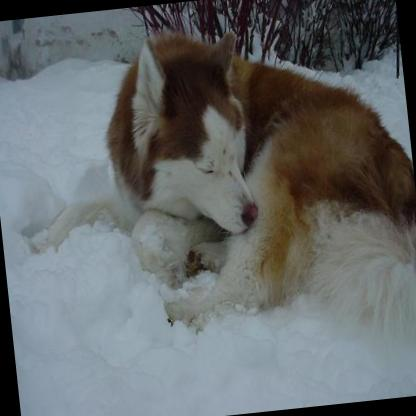Siberian_husky: (8, 6, 416, 374)
